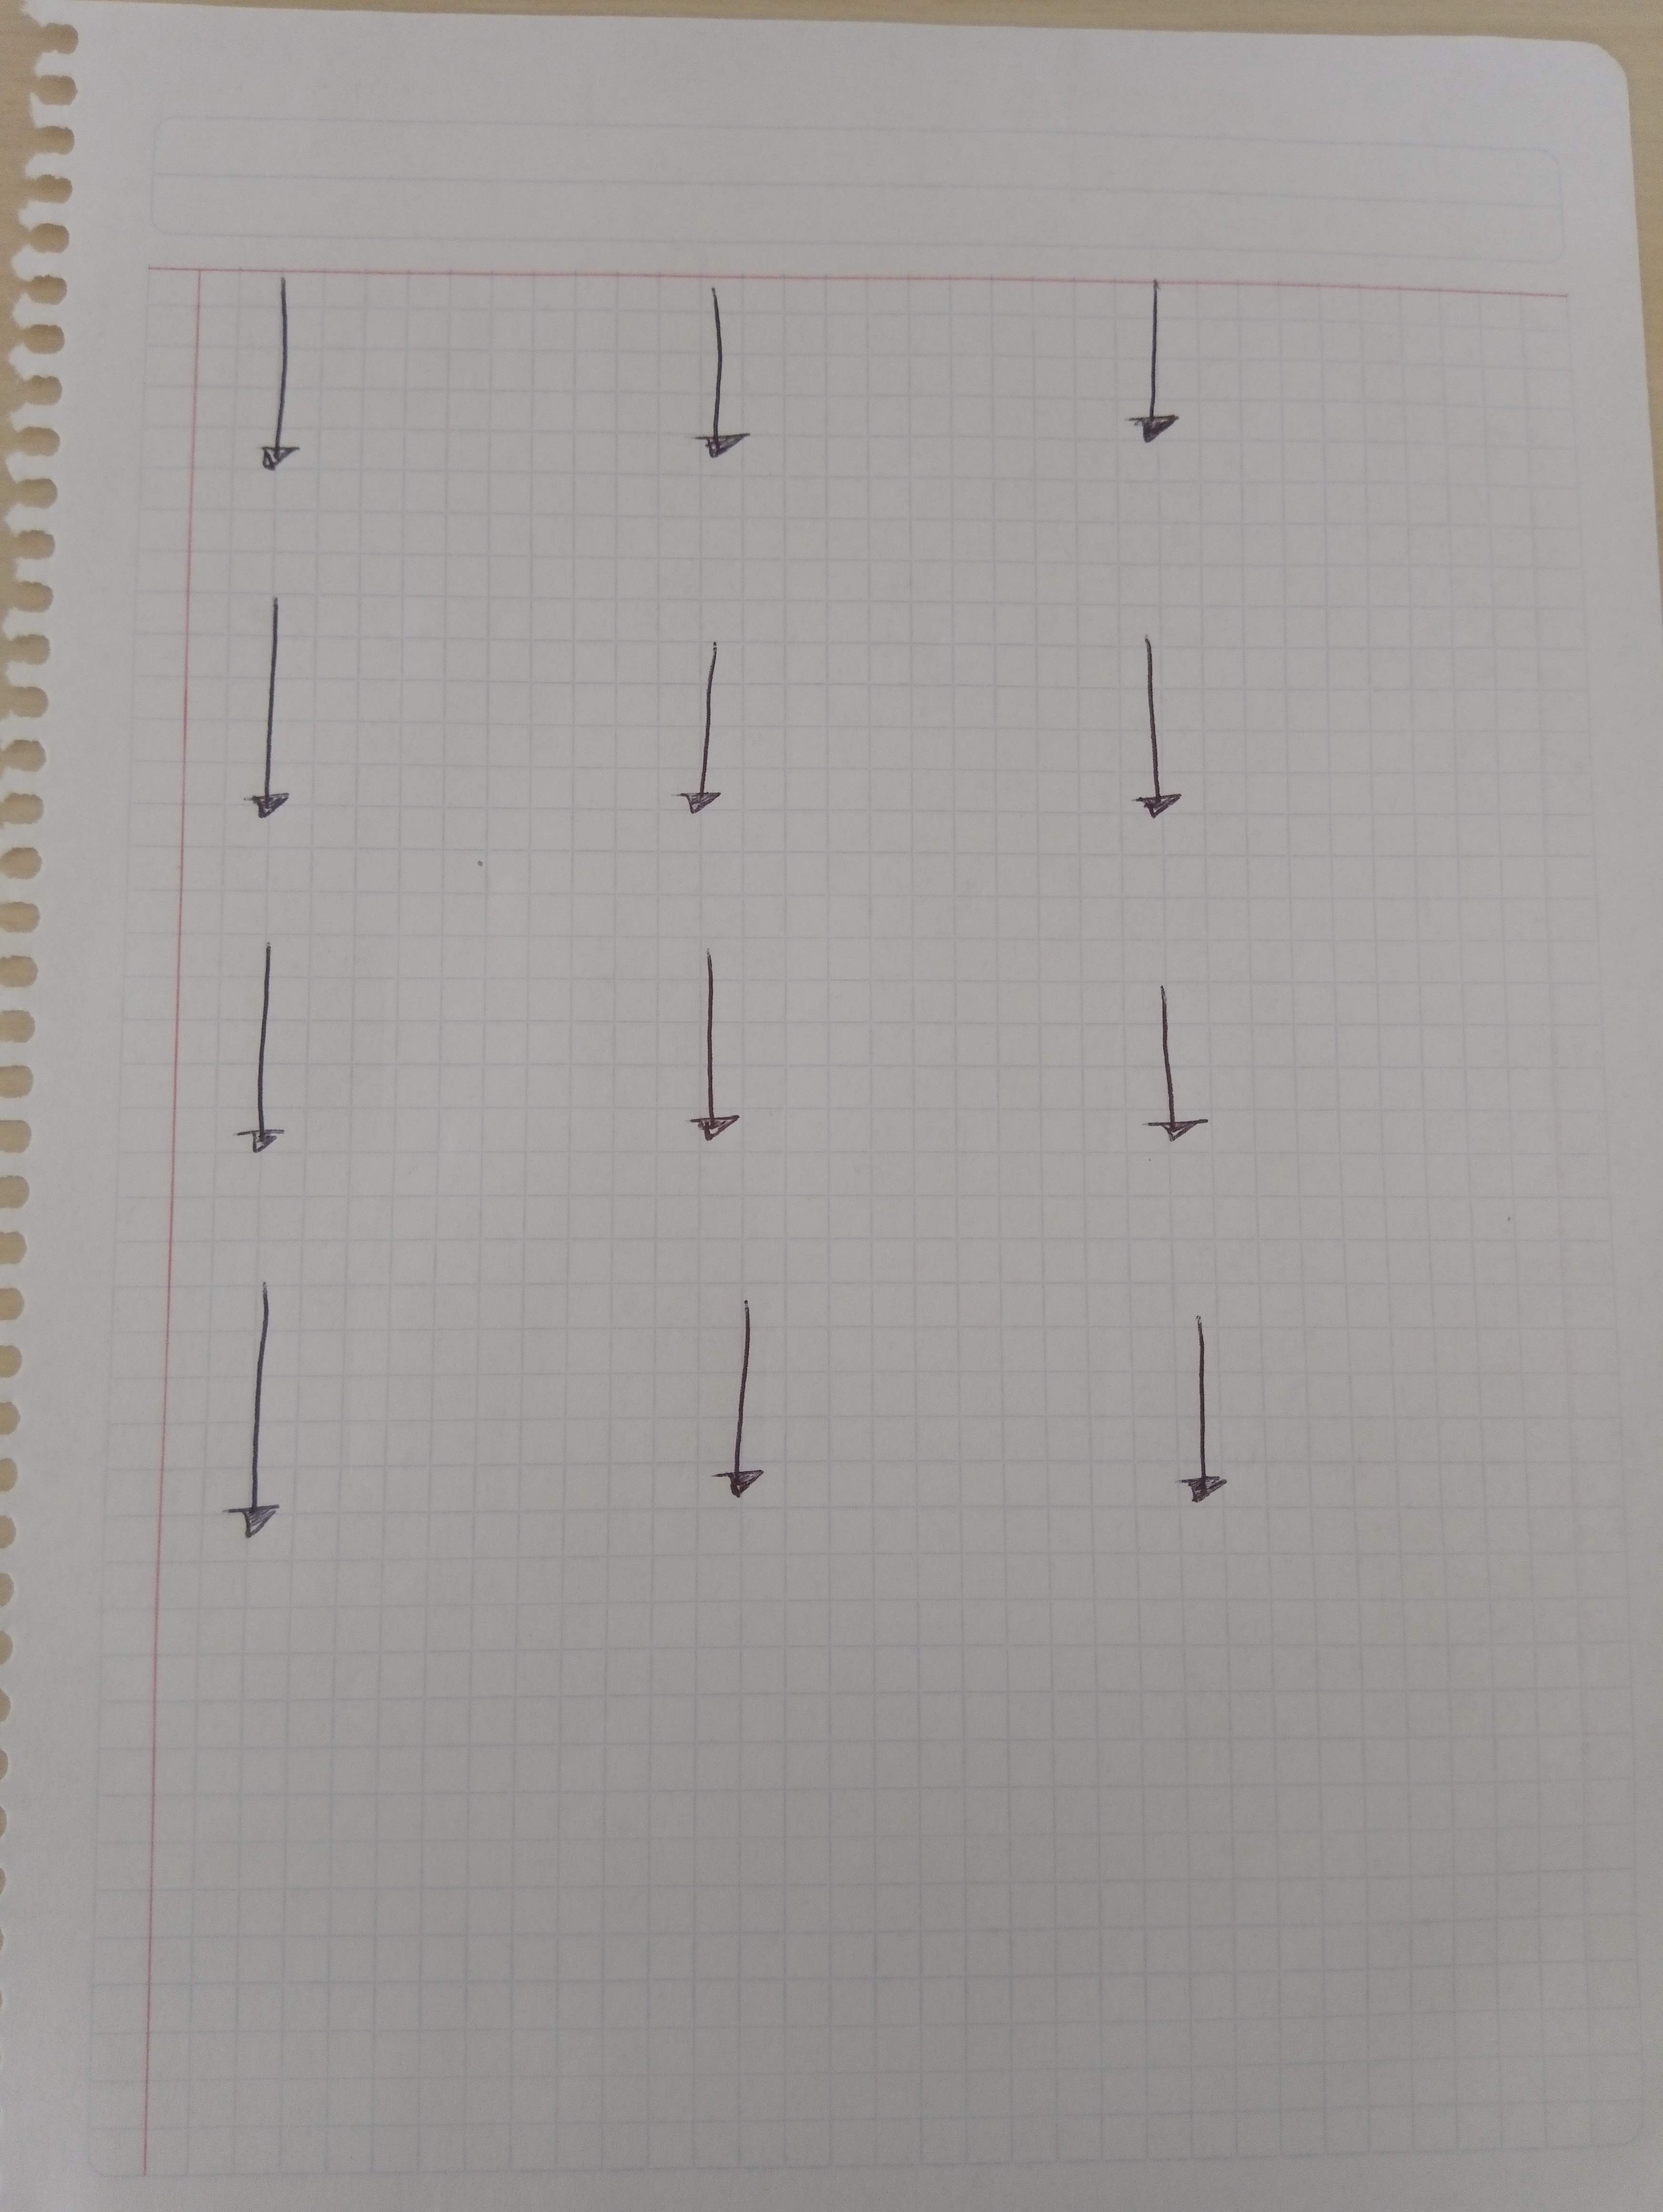arrow_line_down: (1162, 1315, 1272, 1538), (669, 945, 781, 1151), (222, 941, 318, 1168), (1128, 978, 1239, 1175), (678, 271, 776, 487), (1118, 622, 1212, 845), (218, 1285, 292, 1554), (241, 272, 321, 494), (702, 1301, 781, 1521), (238, 595, 311, 821), (1125, 288, 1205, 478), (669, 629, 732, 828)
